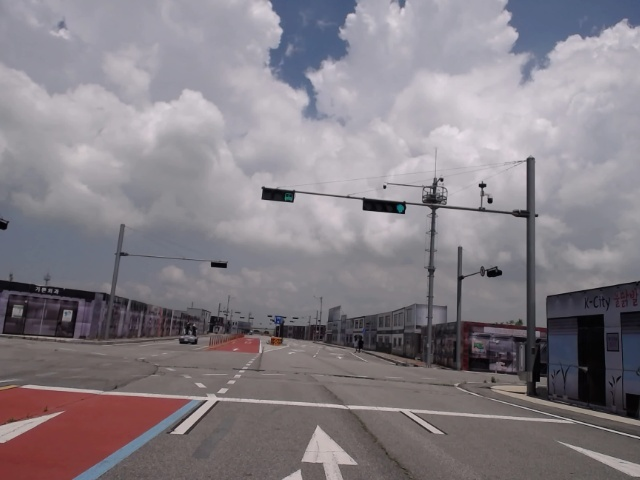straight_green_4: (364, 199, 407, 213)
